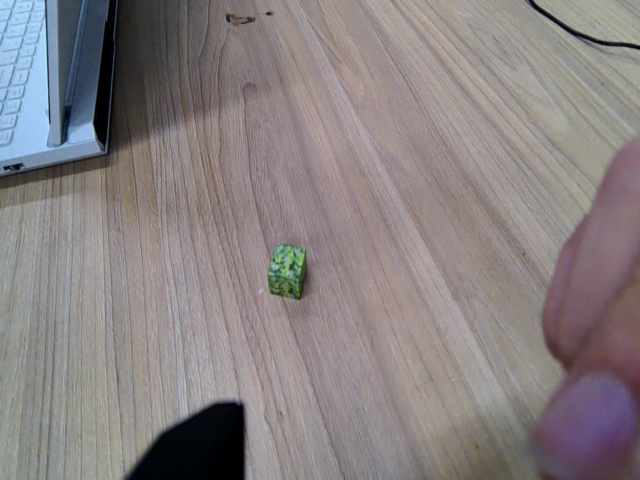grass: (267, 242, 309, 303)
